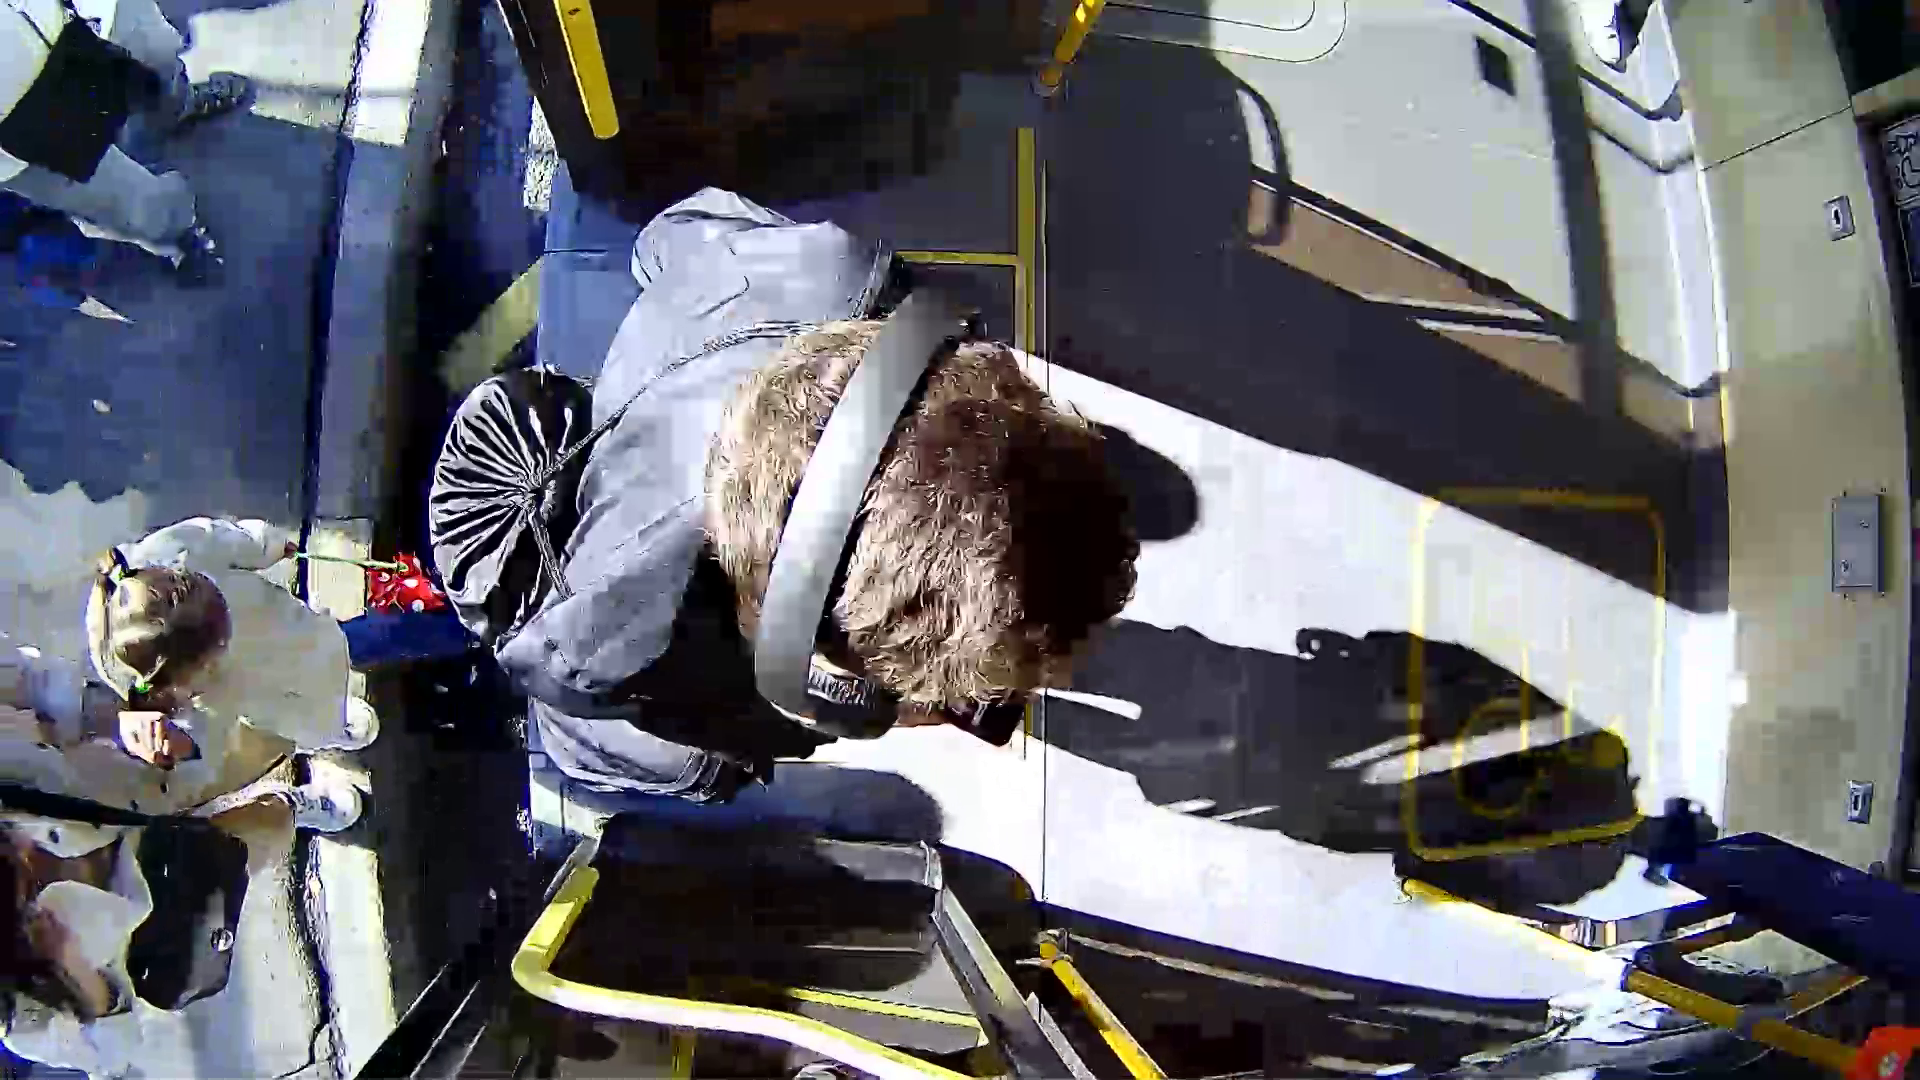person: (465, 187, 1232, 785)
